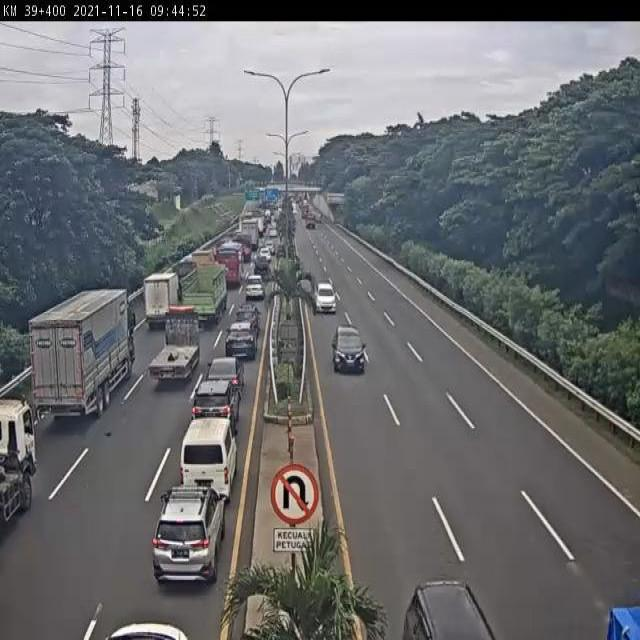big bus: (213, 243, 244, 289)
car: (150, 490, 222, 586), (188, 382, 236, 446), (329, 326, 368, 374), (205, 355, 242, 397), (223, 321, 255, 360), (235, 298, 262, 330), (313, 281, 338, 315), (241, 276, 266, 304)
small bus: (182, 419, 237, 500)
small truck: (182, 253, 211, 296)
truck-l-: (27, 287, 136, 420), (180, 261, 227, 323)
truck-m-: (147, 315, 202, 388), (144, 269, 179, 328)
